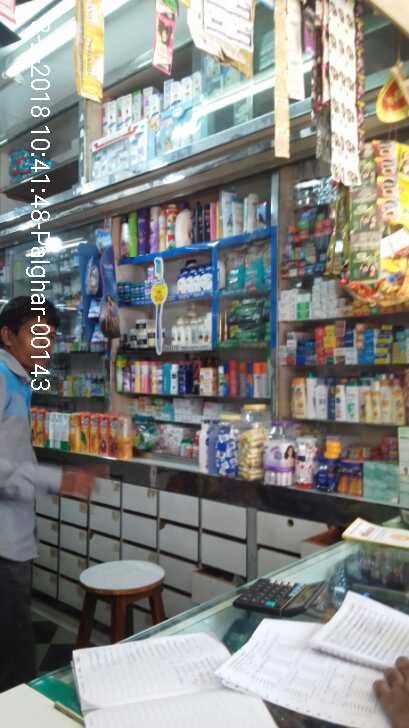vicks: (119, 262, 156, 305)
